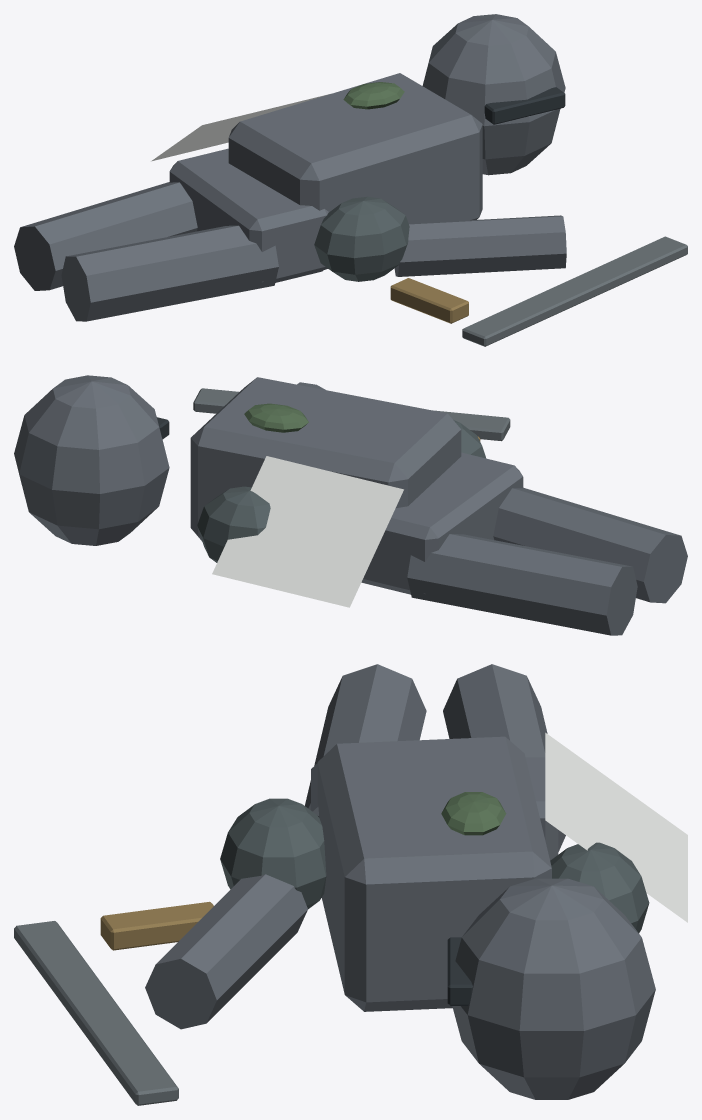
File: hero_fallen_armor.glb
3 renders of one model, top to bottom at view 1: azimuth 30°, elevation 25°; view 2: azimuth 150°, elevation 25°; view 3: azimuth 270°, elevation 25°, orthographic. The views are drawn at different scales.
Visible parts, largest first — view 1: HeroFallenArmor, Cloth_Cape; view 2: HeroFallenArmor, Cloth_Cape; view 3: HeroFallenArmor, Cloth_Cape.
Part boxes in pixels (box(x1,y1,x2,y2)): HeroFallenArmor: box(14, 14, 687, 346); Cloth_Cape: box(151, 94, 329, 161); HeroFallenArmor: box(14, 375, 687, 635); Cloth_Cape: box(212, 456, 403, 607); HeroFallenArmor: box(14, 664, 655, 1105); Cloth_Cape: box(545, 732, 687, 922).
Bounding box in the file's own units: 6.69 × 1.76 × 5.18.
